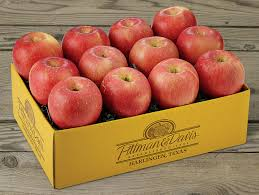apple: (26, 56, 82, 101), (193, 49, 246, 95), (148, 62, 202, 106), (47, 80, 100, 122), (59, 25, 109, 69), (13, 33, 65, 74), (102, 70, 148, 115), (174, 26, 225, 61), (77, 47, 129, 81), (129, 36, 179, 70), (110, 19, 156, 55), (154, 3, 198, 39)
